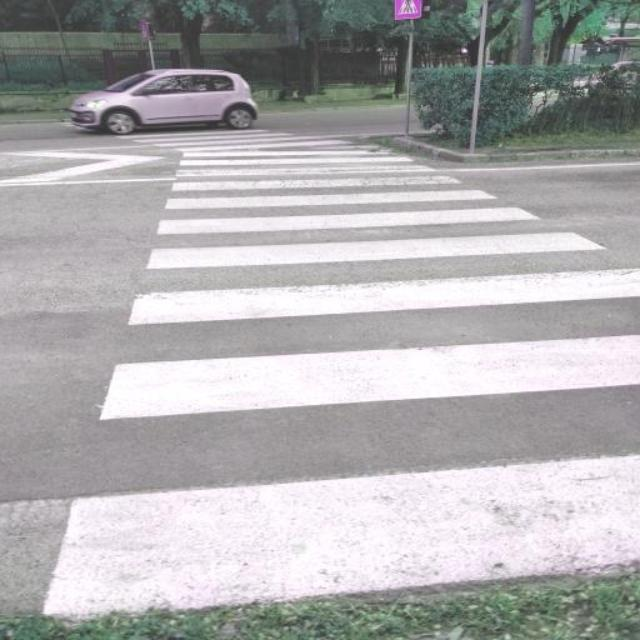sidewalk: (40, 100, 640, 615)
